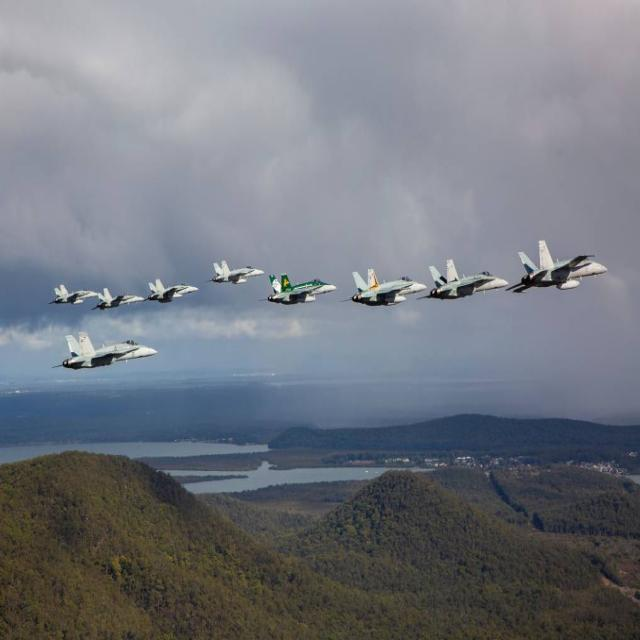MIL_Plane: (505, 240, 608, 294), (51, 331, 158, 371), (416, 259, 508, 300), (339, 266, 427, 307), (257, 272, 338, 306), (206, 260, 265, 285), (142, 278, 200, 303), (90, 287, 148, 311), (47, 284, 100, 306)
